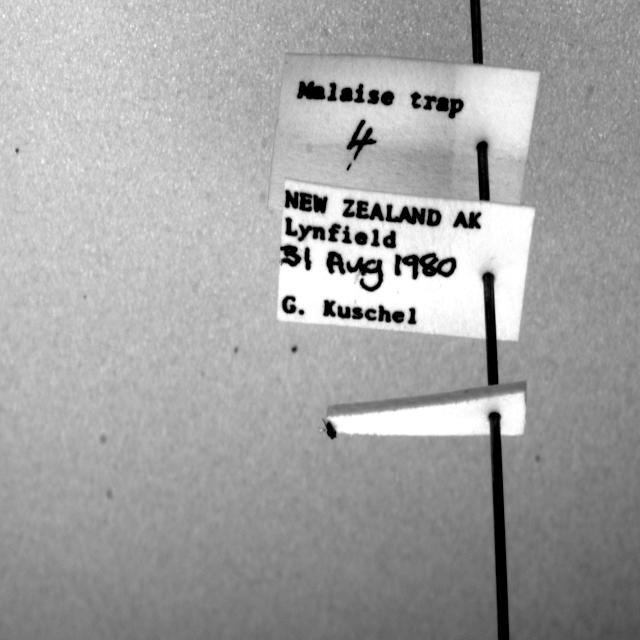mixed_label: (269, 52, 539, 210), (278, 180, 535, 341)
